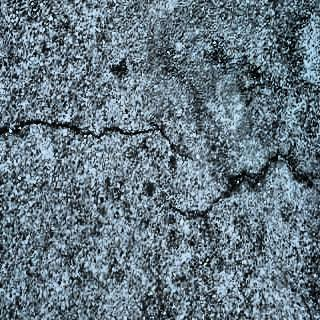crack: (0, 119, 196, 164), (171, 154, 320, 211)
